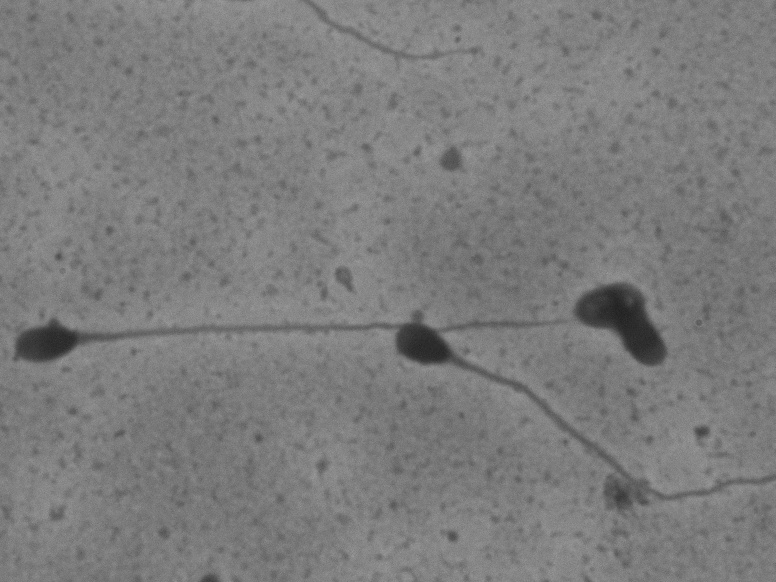Normal: (385, 317, 767, 508), (9, 305, 586, 370)
